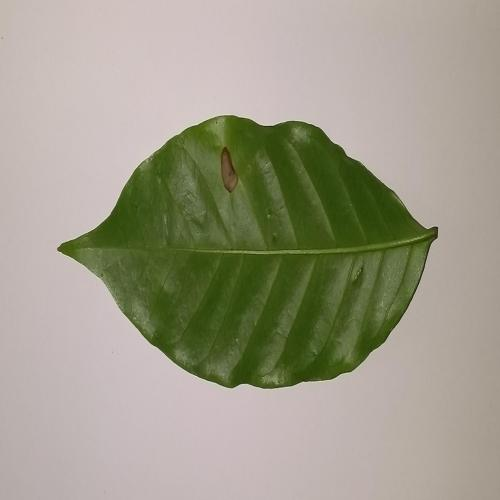leaf: (221, 148, 238, 192)
